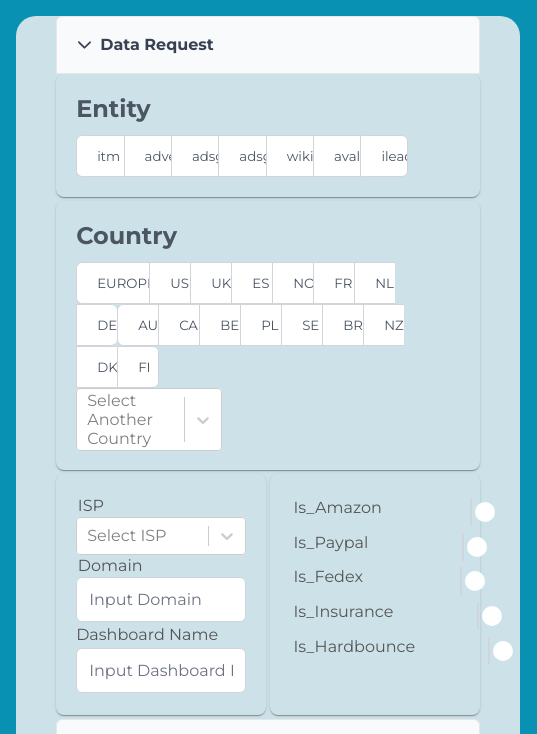
Test: App › should render accordions properly
Click the button "Data Request": point(157, 45) [56,16,480,74]
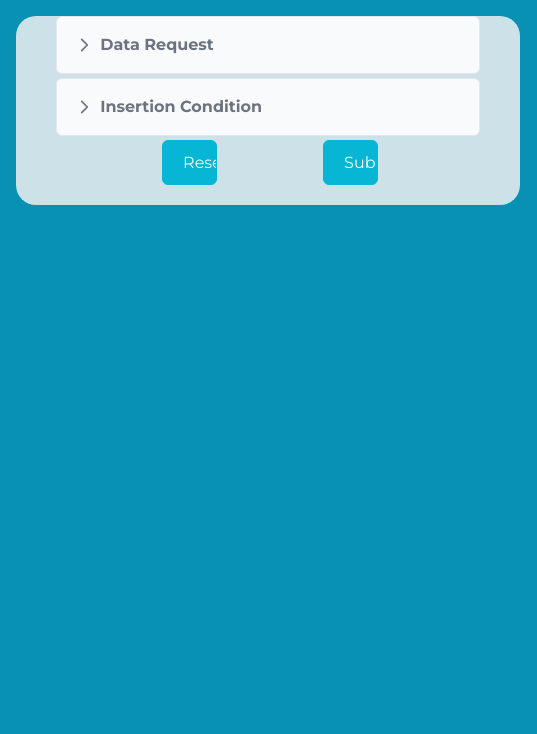
Click the button "Insertion Condition": point(181, 107) [56,78,480,136]
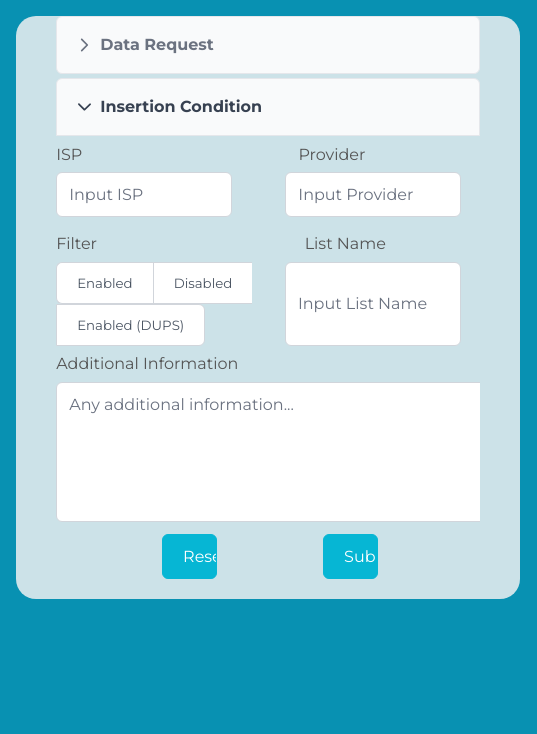
Check: the button "Enabled" is shown, box [56,262,153,304]
